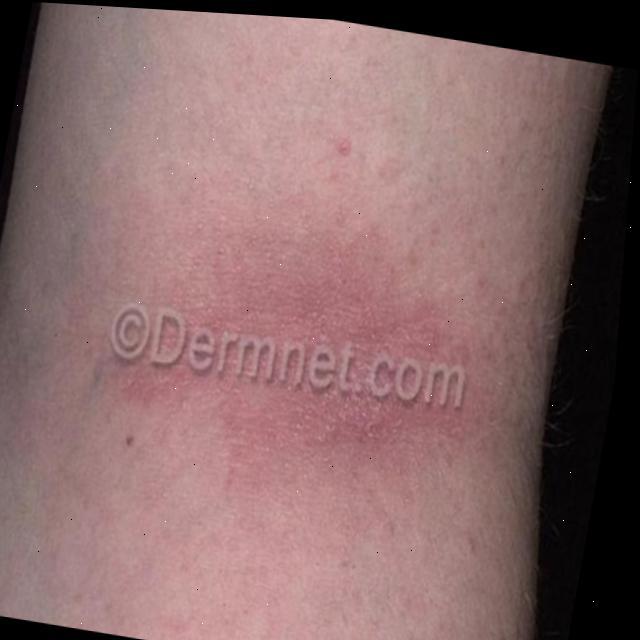Eczema: (81, 184, 491, 466)
